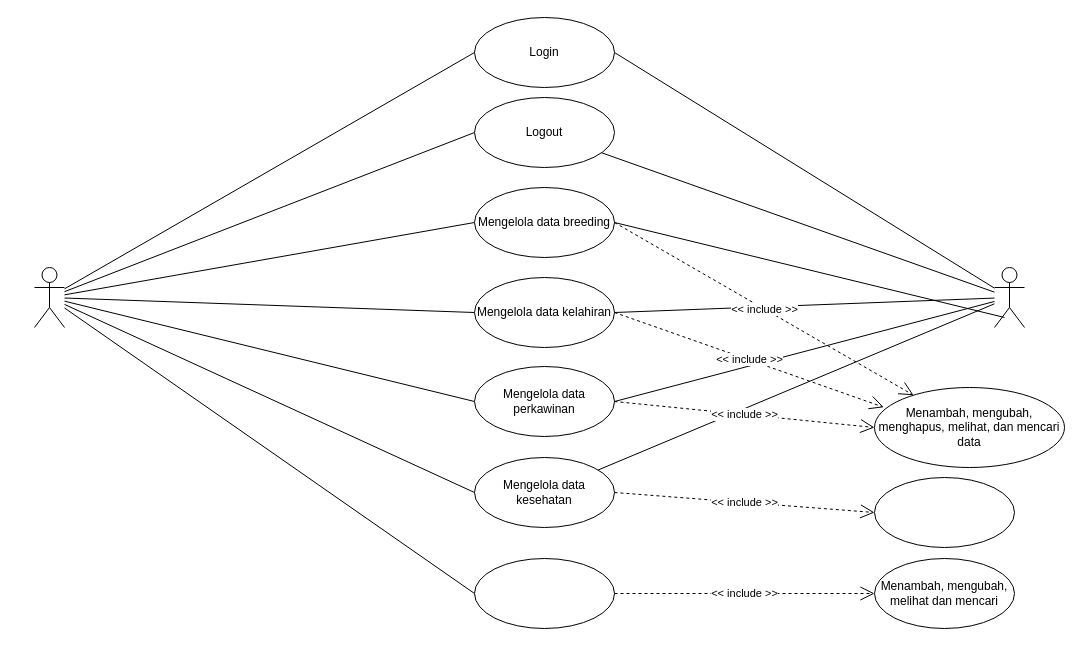
Some shapes in this 1082 by 646 pixel diagram are drawn without their labels. Each missing label, with the centre of its shape:
"Admin" belongs at (1009,297).
"Menambah, melihat dan mencari" belongs at (944,512).
"Mengelola karyawan" belongs at (544,593).
"Superadmin" belongs at (49,297).
